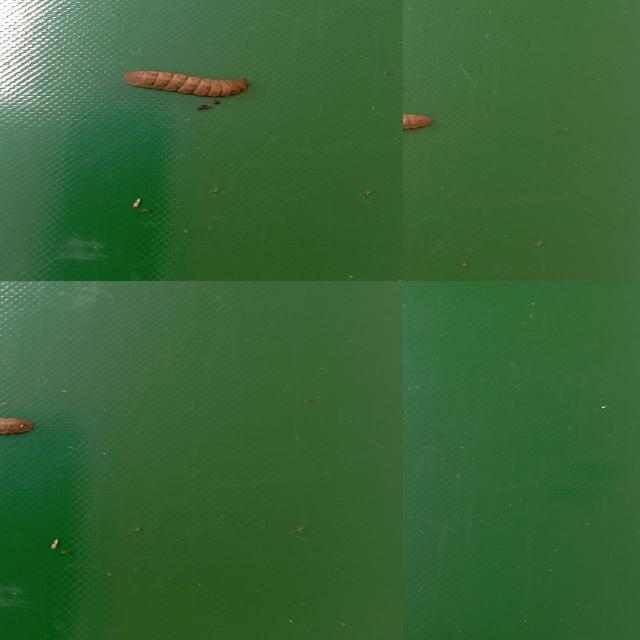Maggot: (123, 71, 250, 102), (0, 418, 36, 439), (403, 113, 433, 134)
